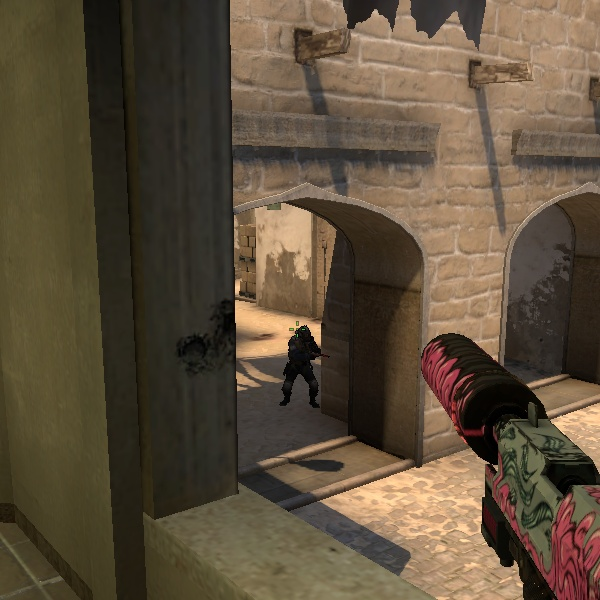ct_body: (276, 318, 325, 410)
t_body: (275, 319, 325, 411)
